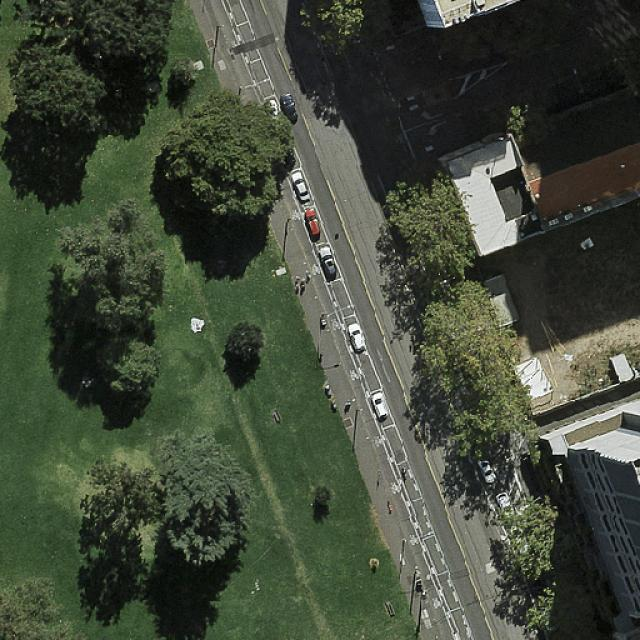Bike-Symbols: (406, 532, 422, 548), (428, 597, 444, 611), (389, 482, 405, 496), (329, 316, 343, 332), (347, 370, 362, 383), (289, 208, 301, 223), (310, 264, 324, 276), (230, 40, 238, 49)
